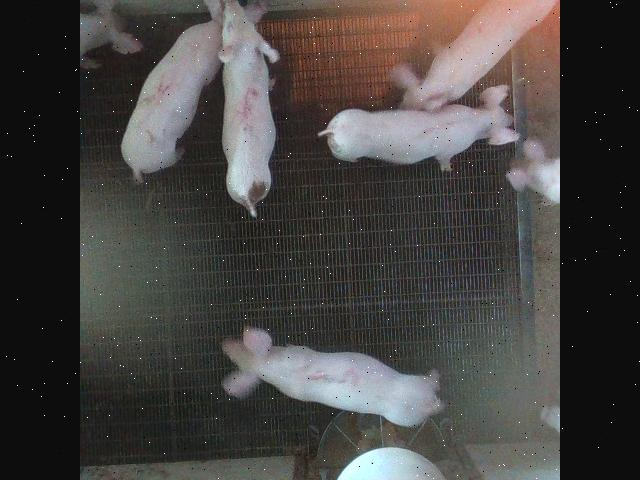pig-3: (222, 326, 443, 425)
pig-5: (218, 0, 279, 216)
